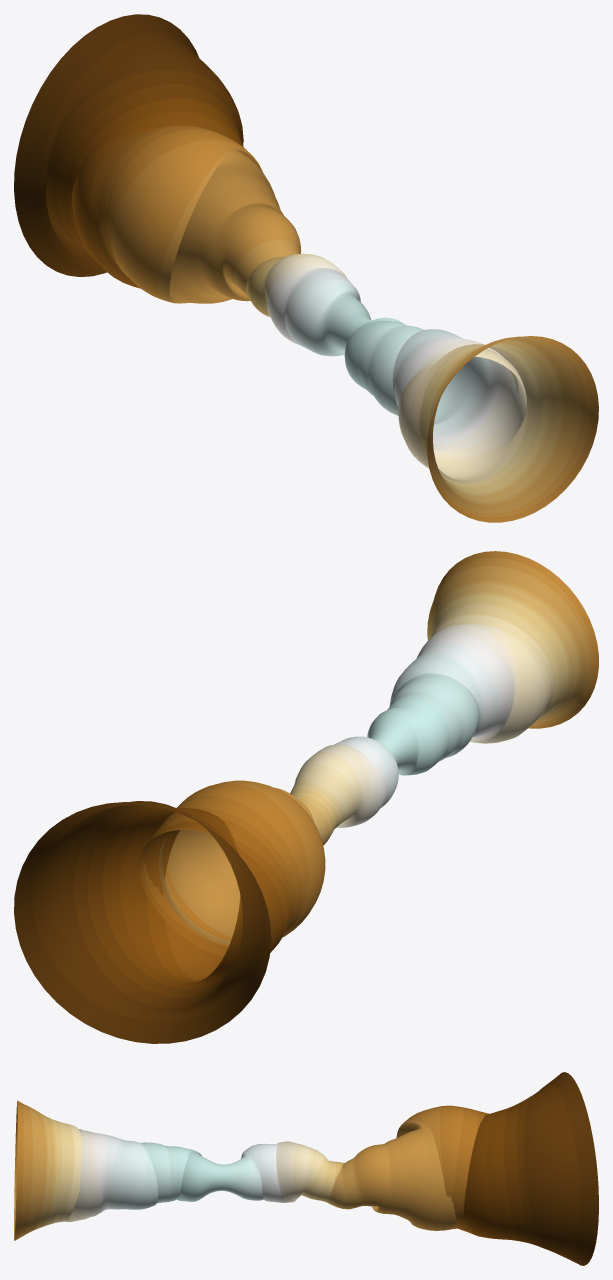
Rendered from p4pir_pathway.obj.
3 renders of one model, top to bottom at view 1: azimuth 30°, elevation 25°; view 2: azimuth 150°, elevation 25°; view 3: azimuth 270°, elevation 25°, orthographic. The views are drawn at different scales.
Bounding box in the file's own units: 21.91 × 22.67 × 68.11.
